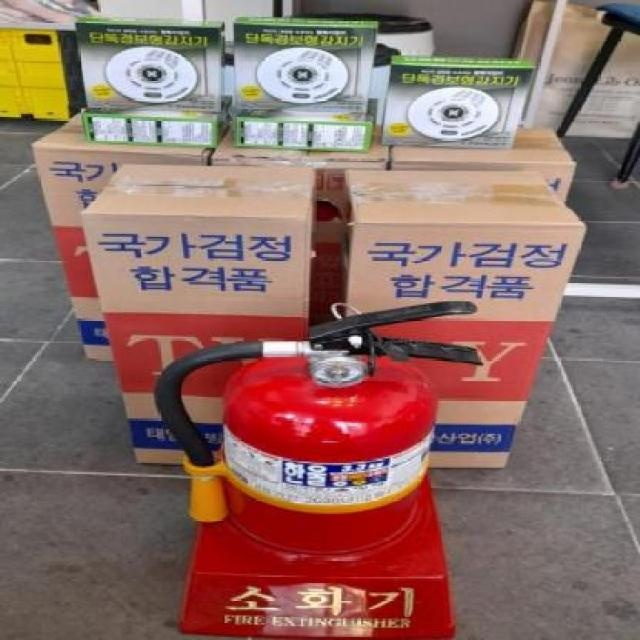fire extinguisher: (153, 300, 484, 555)
